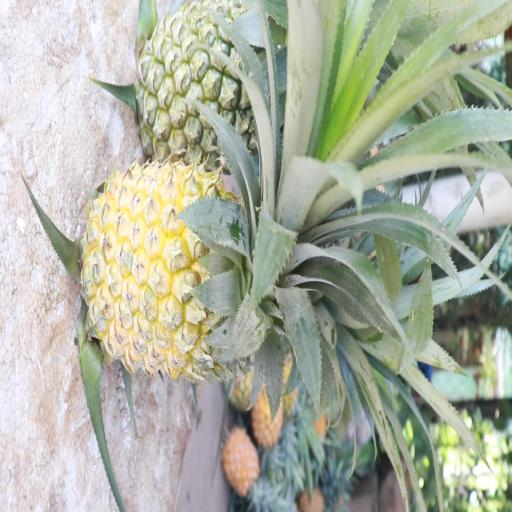------------------------------: (135, 0, 294, 167)
Pineapple - v8 v1: (83, 163, 278, 378), (224, 421, 259, 495), (252, 380, 285, 446)
